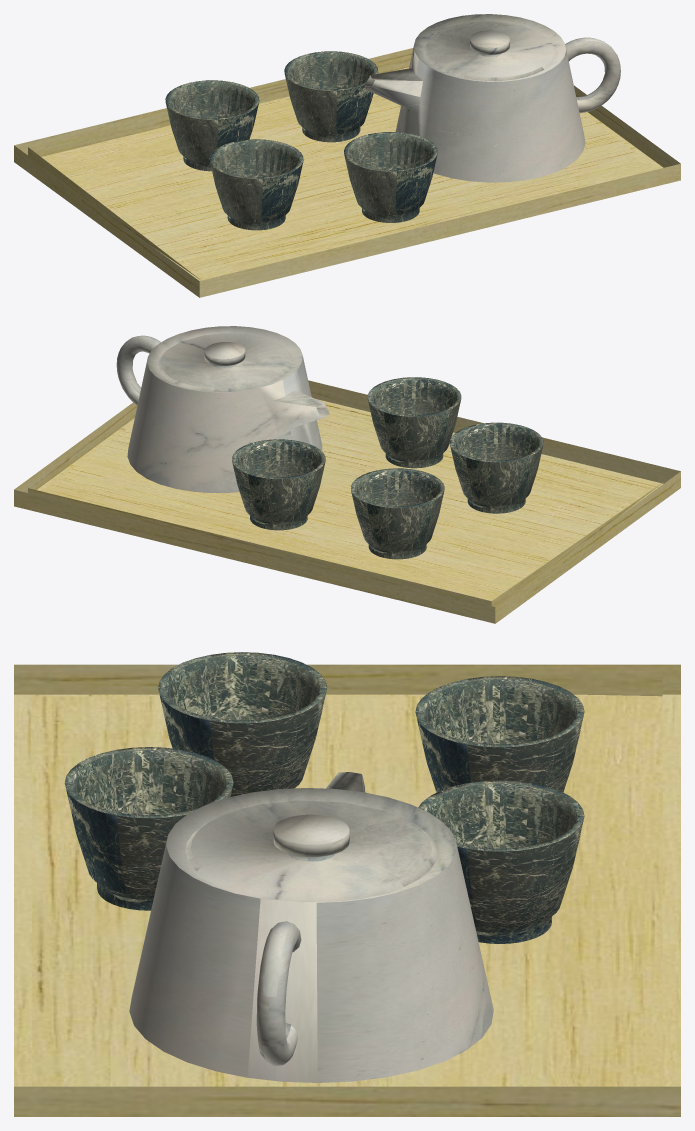
The model's file is tea_set.glb.
3 renders of one model, top to bottom at view 1: azimuth 30°, elevation 25°; view 2: azimuth 150°, elevation 25°; view 3: azimuth 270°, elevation 25°, orthographic. The views are drawn at different scales.
Parts seen in each view (by area): view 1: Plane_0, Cylinder.004_0, Cylinder.001_0, Cylinder.003_0, Cylinder_0, Cylinder.002_0; view 2: Plane_0, Cylinder.004_0, Cylinder.003_0, Cylinder.001_0, Cylinder.002_0, Cylinder_0; view 3: Plane_0, Cylinder.004_0, Cylinder.001_0, Cylinder_0, Cylinder.003_0, Cylinder.002_0.
Boxes of the visible parts, x1,y1,x2,y2 form: Plane_0: [14, 48, 680, 297]; Cylinder.004_0: [364, 14, 620, 182]; Cylinder.001_0: [209, 139, 303, 230]; Cylinder.003_0: [344, 132, 437, 222]; Cylinder_0: [284, 51, 378, 142]; Cylinder.002_0: [165, 80, 259, 171]; Plane_0: [14, 380, 680, 623]; Cylinder.004_0: [116, 326, 329, 492]; Cylinder.003_0: [367, 377, 461, 468]; Cylinder.001_0: [449, 422, 543, 513]; Cylinder.002_0: [351, 468, 444, 559]; Cylinder_0: [232, 439, 325, 530]; Plane_0: [14, 664, 680, 1116]; Cylinder.004_0: [129, 772, 493, 1082]; Cylinder.001_0: [158, 652, 326, 796]; Cylinder_0: [418, 780, 584, 943]; Cylinder.003_0: [64, 747, 233, 910]; Cylinder.002_0: [415, 676, 584, 792].
Bounding box in the file's own units: 17.52 × 3.64 × 11.45.
3 materials, 3 textured.
